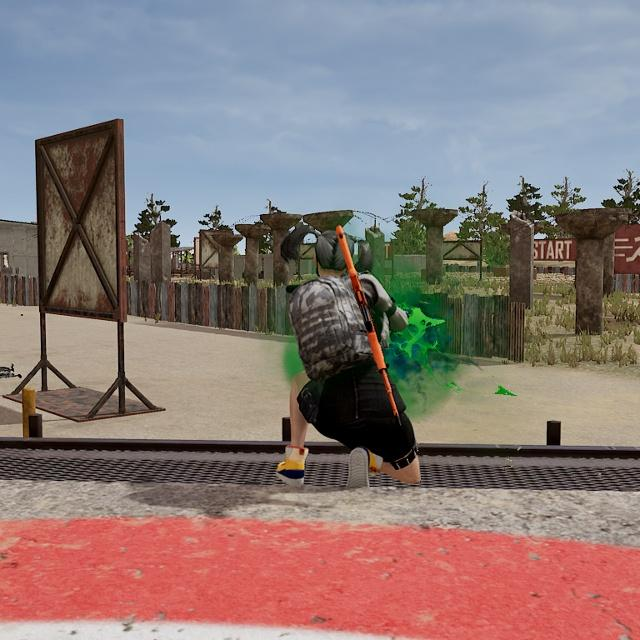head: (299, 215, 369, 285)
people: (259, 189, 430, 487)
